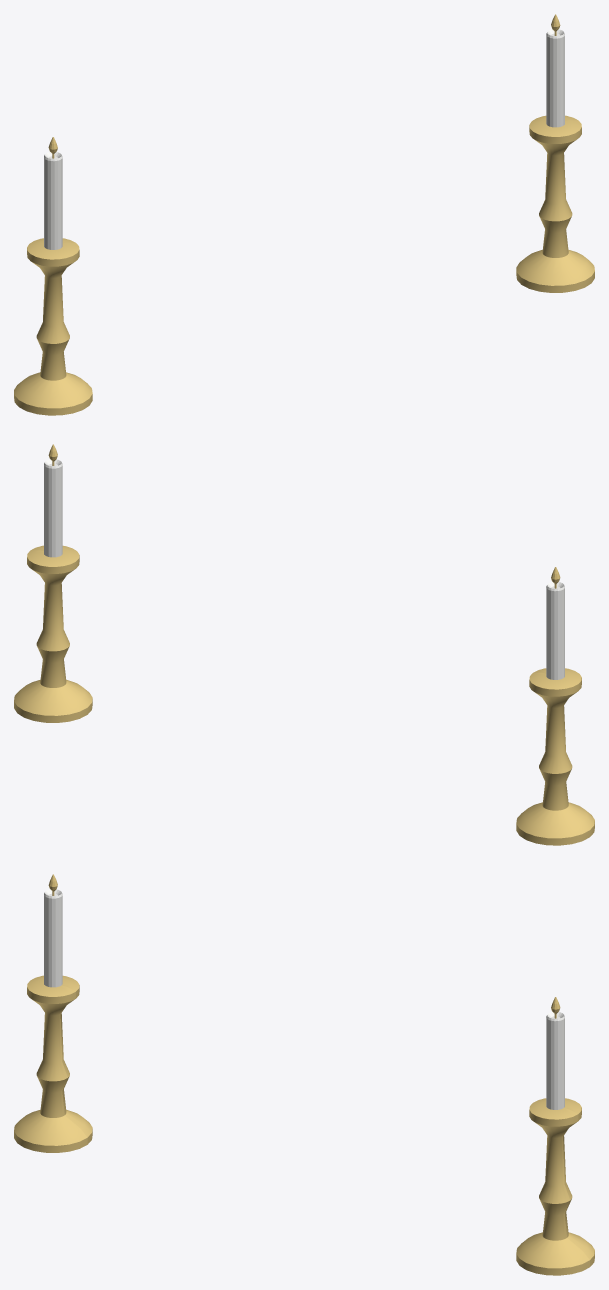
The model's file is wedding-and-chapel-kit-altar-candlesticks-11f60a1e__39384.glb.
The picture shows the model from 3 angles, top to bottom: view 1: azimuth 30°, elevation 25°; view 2: azimuth 150°, elevation 25°; view 3: azimuth 330°, elevation 25°; orthographic projection.
Parts seen in each view (by area): view 1: altar-candlesticks; view 2: altar-candlesticks; view 3: altar-candlesticks.
Part boxes in pixels (box(x1,y1,x2,y2)): altar-candlesticks: box(14, 14, 594, 415); altar-candlesticks: box(14, 444, 594, 845); altar-candlesticks: box(14, 874, 594, 1275).
Size of the model in its own units: 1.25 by 0.548 by 0.15.
